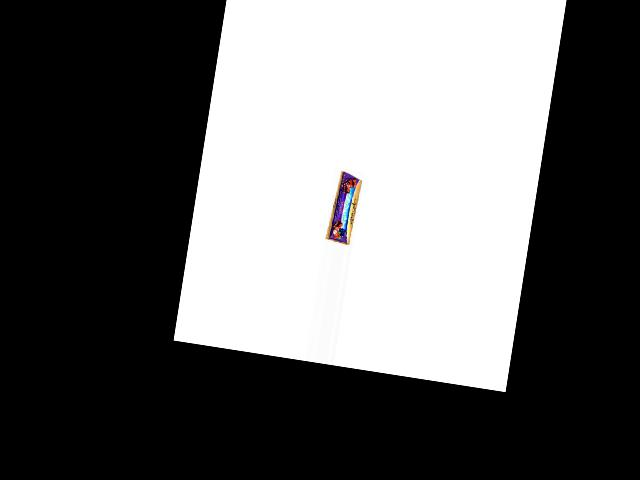chocolate: (324, 166, 360, 245)
